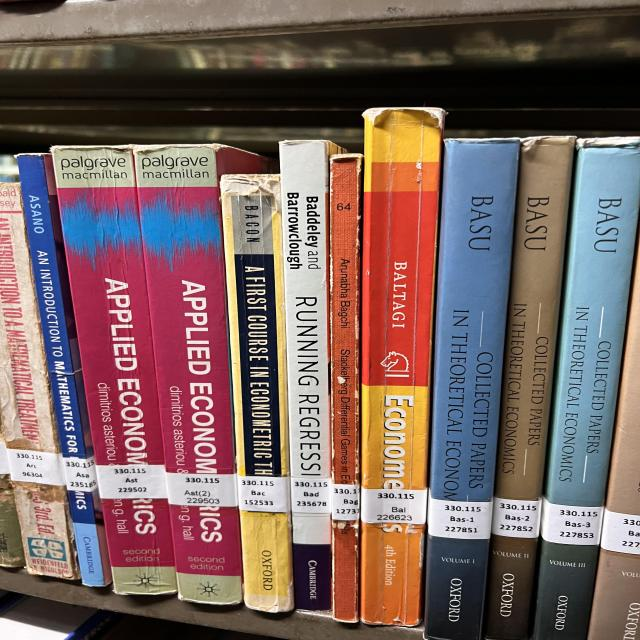Book: (133, 145, 267, 604), (55, 146, 175, 594), (533, 138, 640, 640), (425, 140, 518, 640), (485, 138, 575, 640), (360, 108, 445, 626), (17, 154, 112, 586), (220, 175, 293, 612), (0, 182, 78, 578), (280, 140, 345, 611), (588, 245, 640, 640), (330, 154, 362, 622)
Label: (542, 499, 603, 545), (428, 498, 492, 539), (167, 472, 238, 508), (97, 465, 167, 499), (362, 488, 427, 524), (7, 449, 65, 486), (492, 498, 542, 538), (238, 475, 288, 512), (600, 509, 640, 555), (290, 478, 332, 514), (63, 456, 97, 492), (332, 484, 360, 521)
